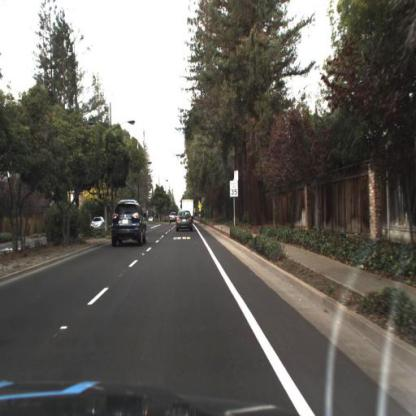car: (111, 198, 152, 252), (173, 207, 197, 235), (91, 218, 105, 234), (169, 210, 179, 226)
truck: (181, 198, 196, 219)
